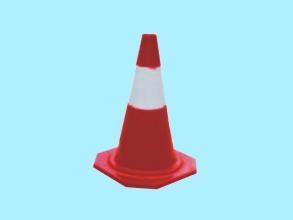cone_barrel: (101, 37, 187, 185)
